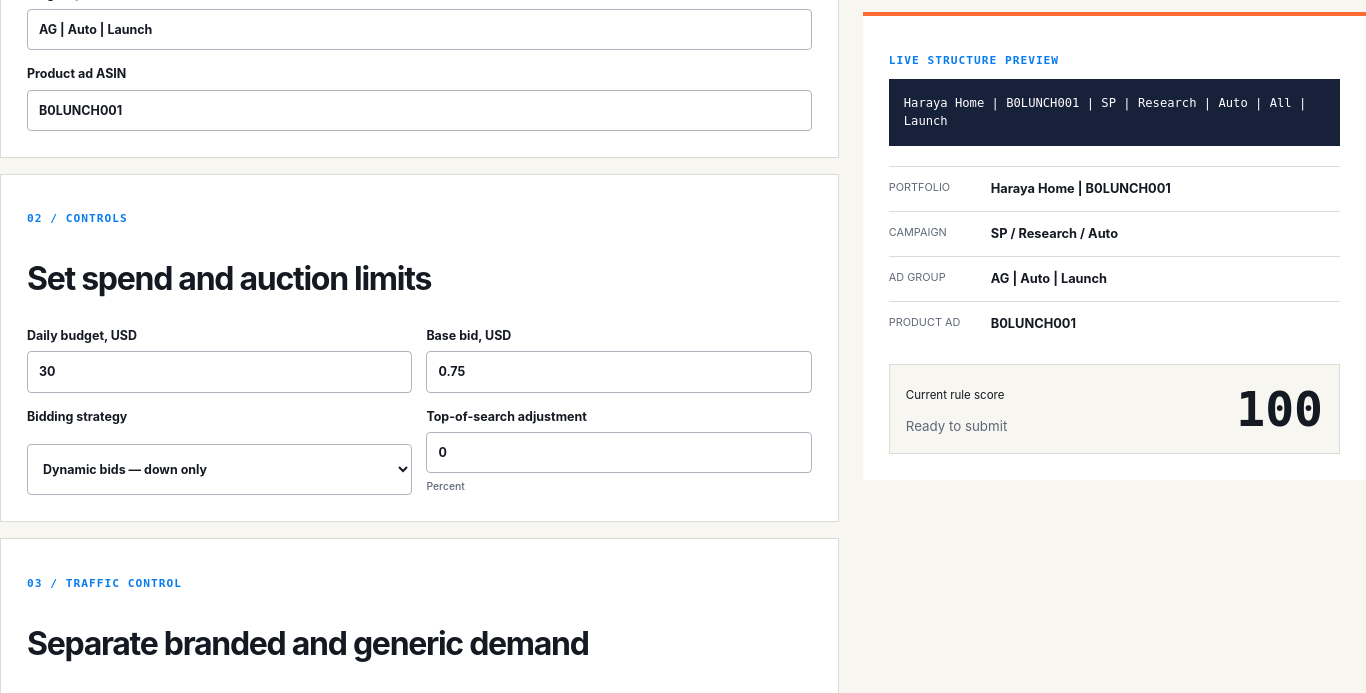
Scenario: CampaignBuilder › shows the seven-part structure preview and updates budget validation
This screenshot has width=1366, height=693.
(page scrolled)
Check: the text "Haraya Home | B0LUNCH001 | SP | Research" is shown, box [904, 95, 1306, 128]
Replace the text in the number field labelled "Daily budget, USD" with "60": (220, 372) [27, 351, 412, 393]
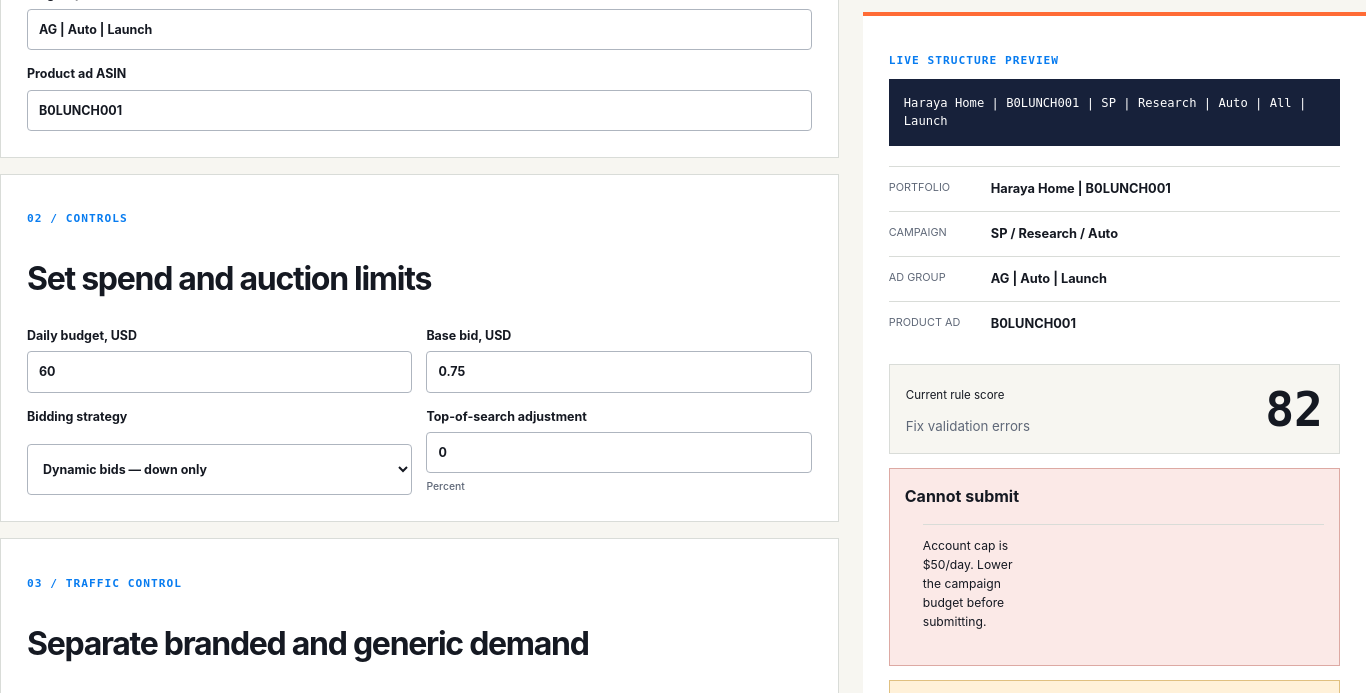
Check: the list item "Account cap is $50" is shown, box [923, 538, 1012, 628]
